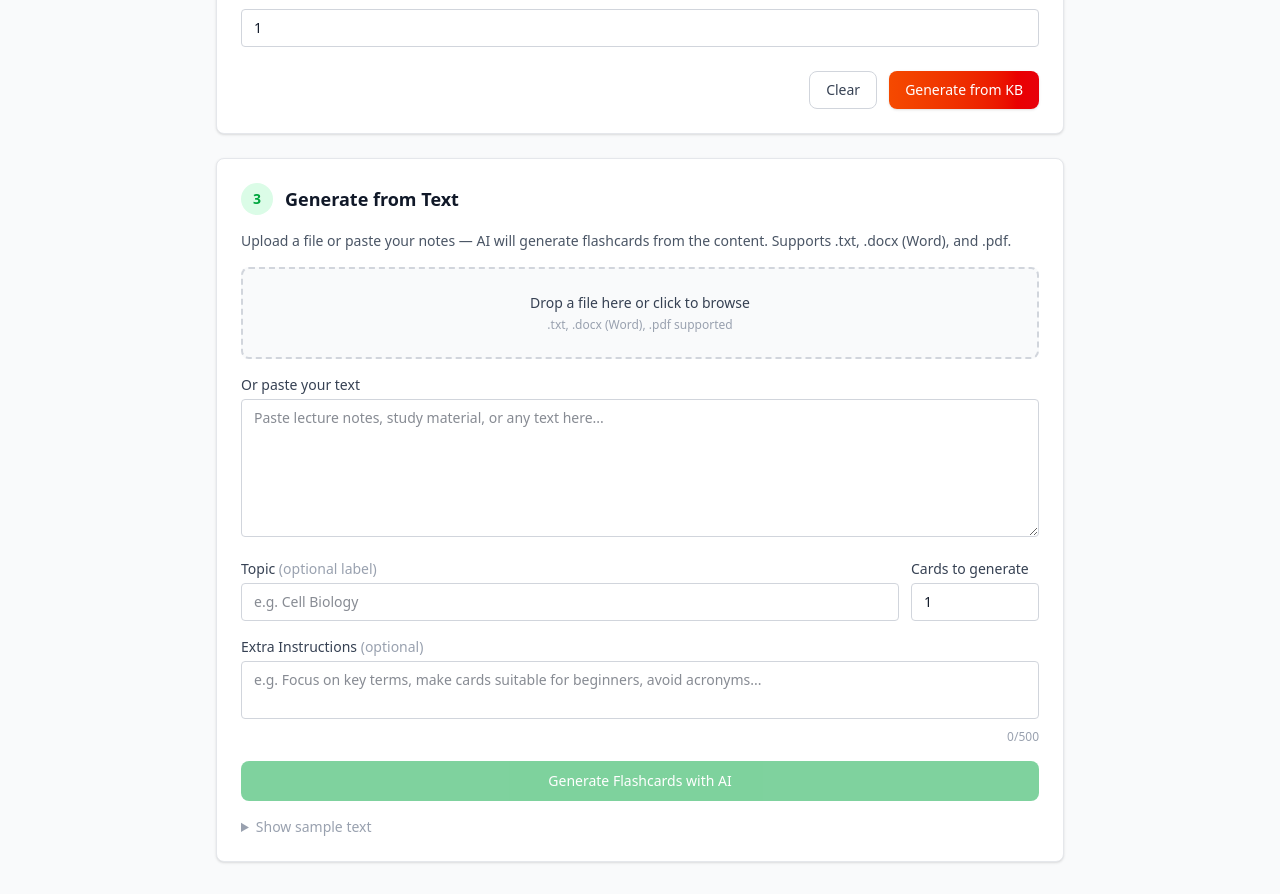
Test: CreateCardPage — generate from text › shows review modal after generation success
The image size is (1280, 894).
(page scrolled)
Type "Cell biology notes" into the text box with placeholder "Paste lecture notes, study material, or any text here..." at (640, 468), box [241,399,1039,537]
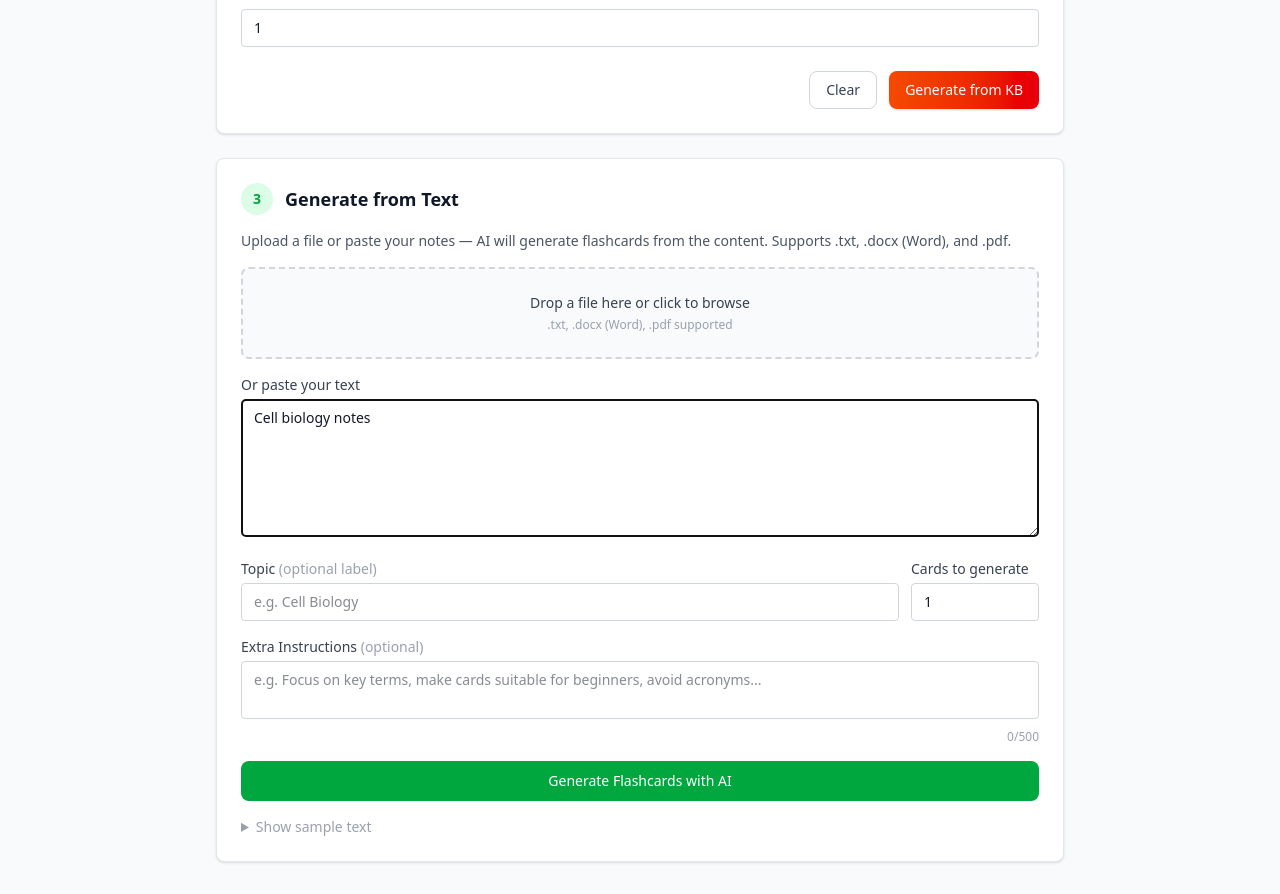
Click the button "Generate Flashcards with AI" at (640, 781), box [241,761,1039,801]
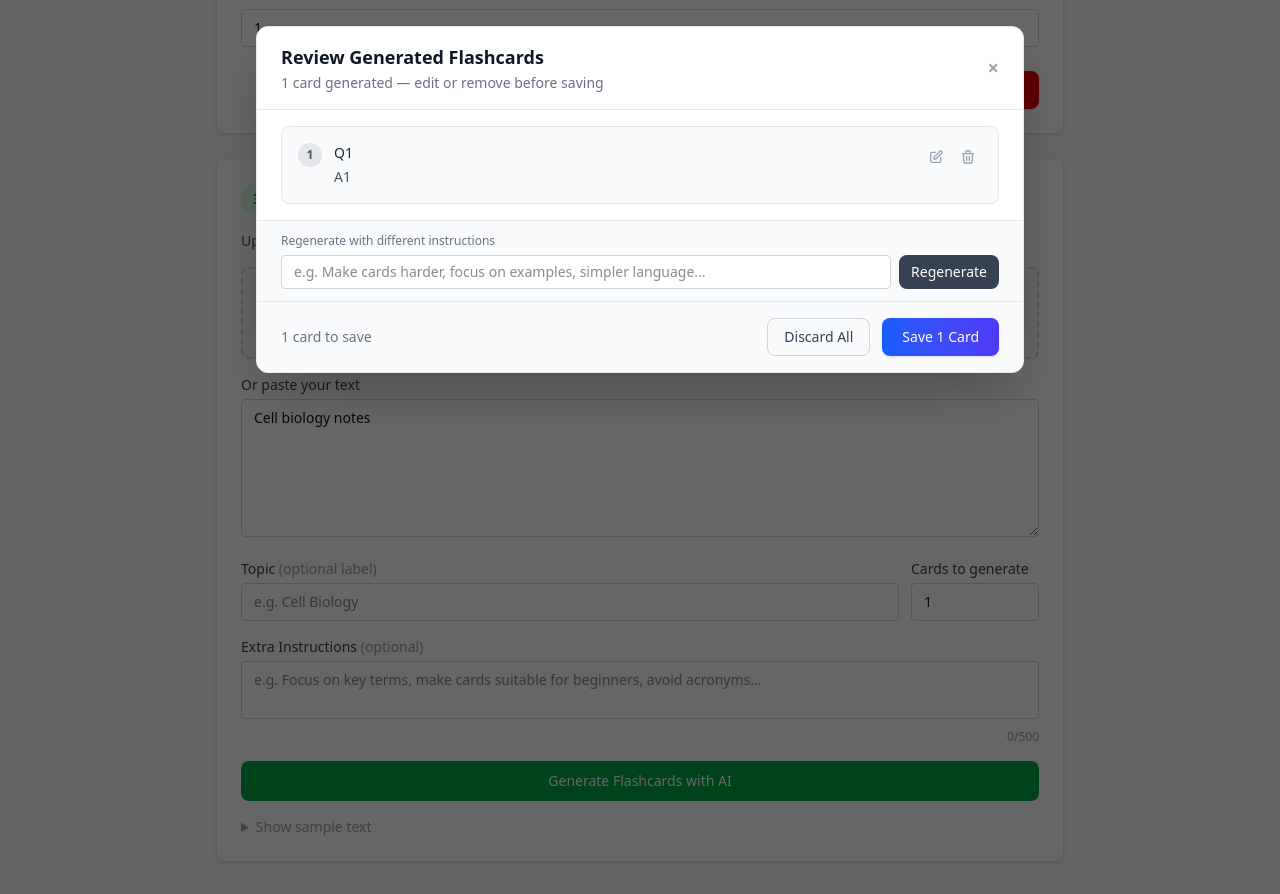
Check: the heading "Review Generated Flashcards" is shown, box [281,45,544,69]
